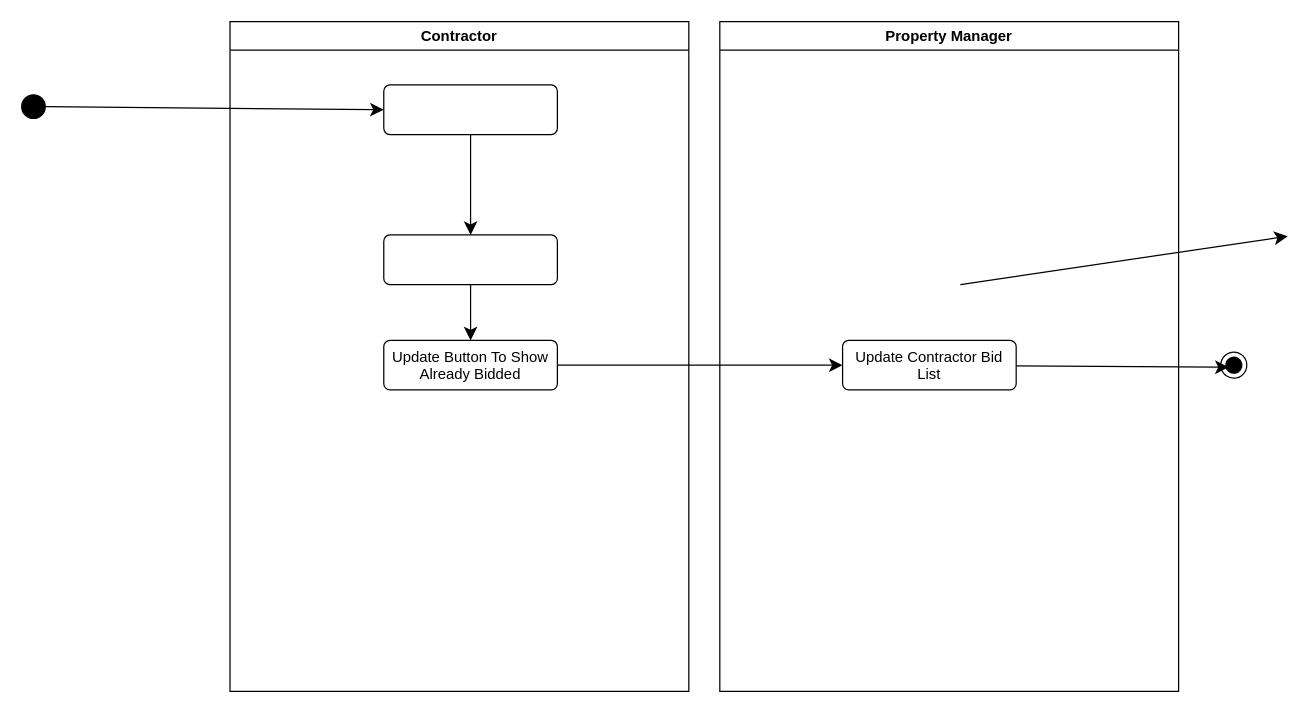
The diagram is 1308 pixels wide and 713 high, and some of its shapes have lost their labels. Each missing label, with the centre of its shape:
"Click 'Accept Bid'" goes at point (470, 259).
"View Request Detailed Bid" goes at point (470, 109).
